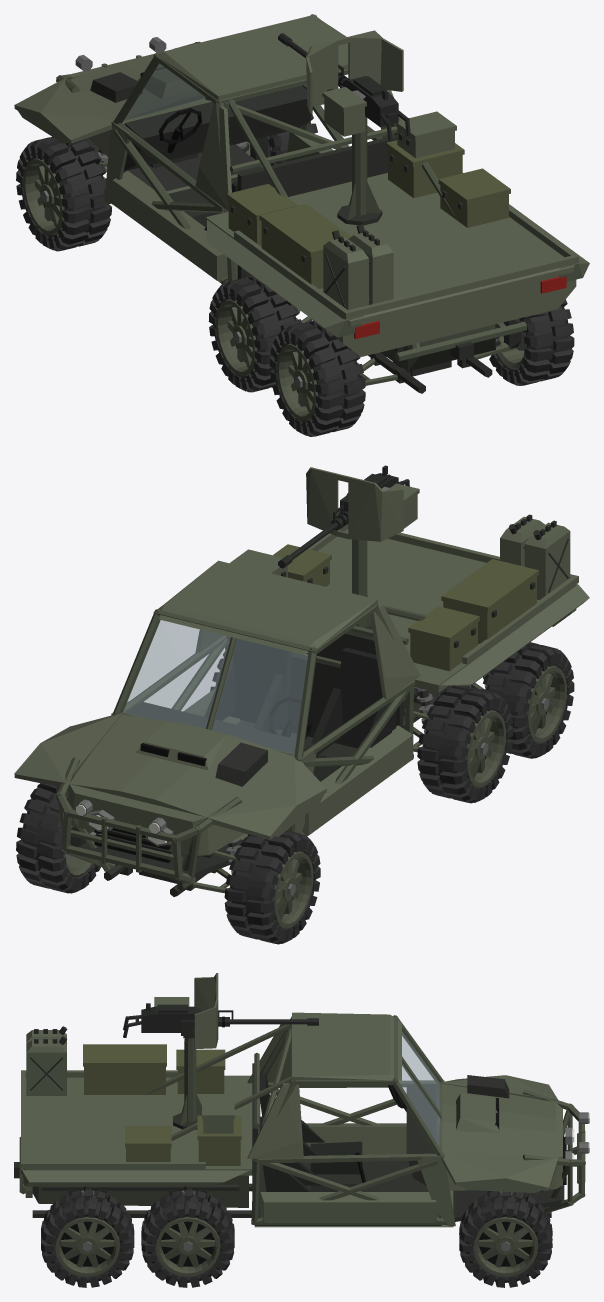
File: four_by_four.glb
The picture shows the model from 3 angles, top to bottom: view 1: azimuth 30°, elevation 25°; view 2: azimuth 150°, elevation 25°; view 3: azimuth 270°, elevation 25°; orthographic projection. The views are drawn at different scales.
Parts seen in each view (by area): view 1: Body, Wheel0, Wheel4, Wheel2, GunYaw, Wheel5, GunPitch, Wheel1; view 2: Body, Wheel2, Wheel0, Wheel4, Wheel1, GunYaw, GunPitch; view 3: Body, Wheel3, Wheel5, Wheel1, GunPitch, GunYaw.
Part boxes in pixels (x1,y1,x2,y2): Body: (14,14,589,393); Wheel0: (16,137,111,251); Wheel4: (269,320,365,436); Wheel2: (208,275,301,392); GunYaw: (306,30,403,117); Wheel5: (489,299,574,385); GunPitch: (278,33,410,140); Wheel1: (245,114,317,167); Body: (14,514,589,896); Wheel2: (417,685,513,803); Wheel0: (224,830,320,944); Wheel4: (481,642,574,758); Wheel1: (16,783,100,893); GunYaw: (306,467,403,541); GunPitch: (278,465,419,568); Body: (14,1012,589,1227); Wheel3: (141,1190,234,1287); Wheel5: (41,1190,134,1287); Wheel1: (459,1191,552,1287); GunPitch: (123,997,318,1037); GunYaw: (181,973,218,1048).
Bounding box in the file's own units: 2.16 × 2.39 × 4.93.
